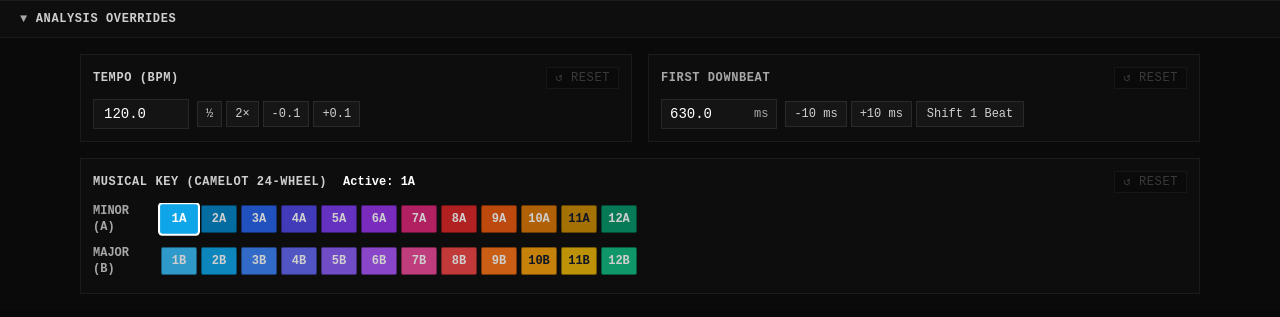
Test: OverridePanel Component › resets all fields when Reset All is clicked
Apply BPM and Key overrides
Click the button with test id "bpm-half-btn" at (210, 114), box [197,101,222,127]
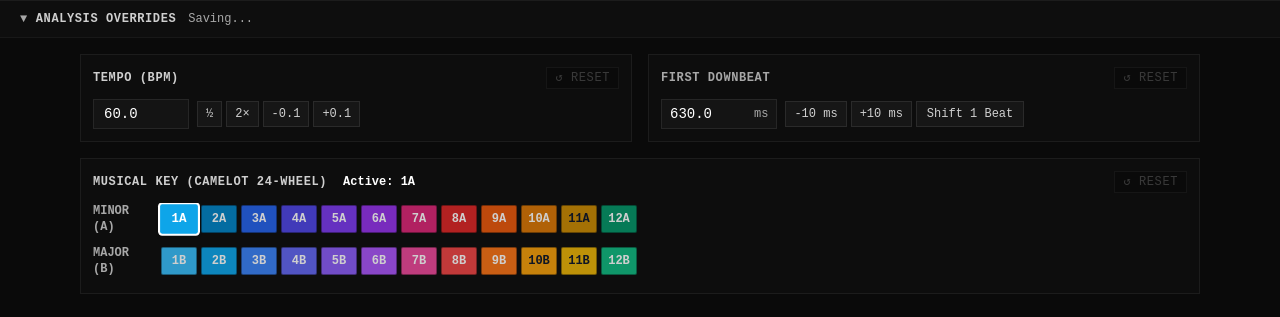
Click the button with test id "key-btn-11B" at (579, 261), box [561,247,597,275]
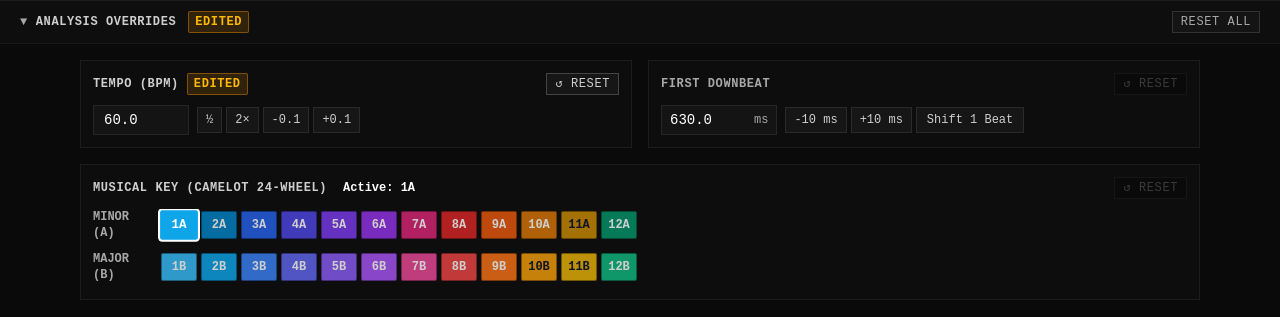
Check: the button with test id "reset-all-btn" is shown
Click Reset All
Click the button with test id "reset-all-btn" at (1216, 22), box [1172,11,1260,33]
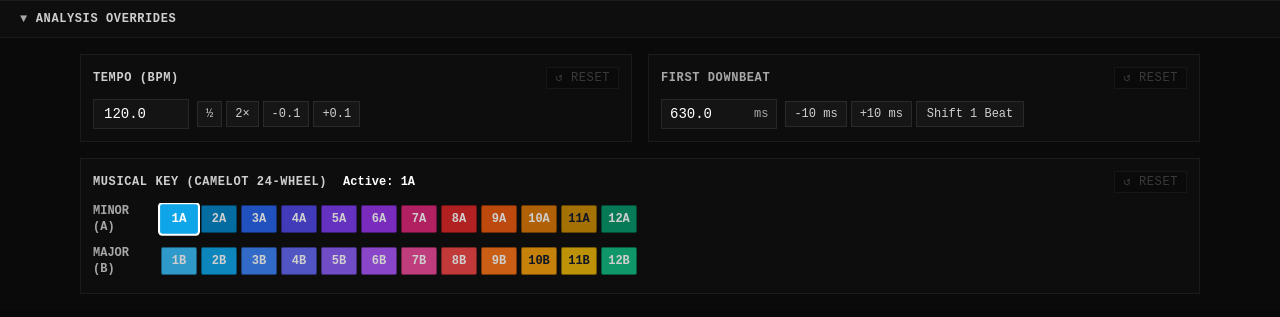
Check: the button with test id "reset-all-btn" is gone
